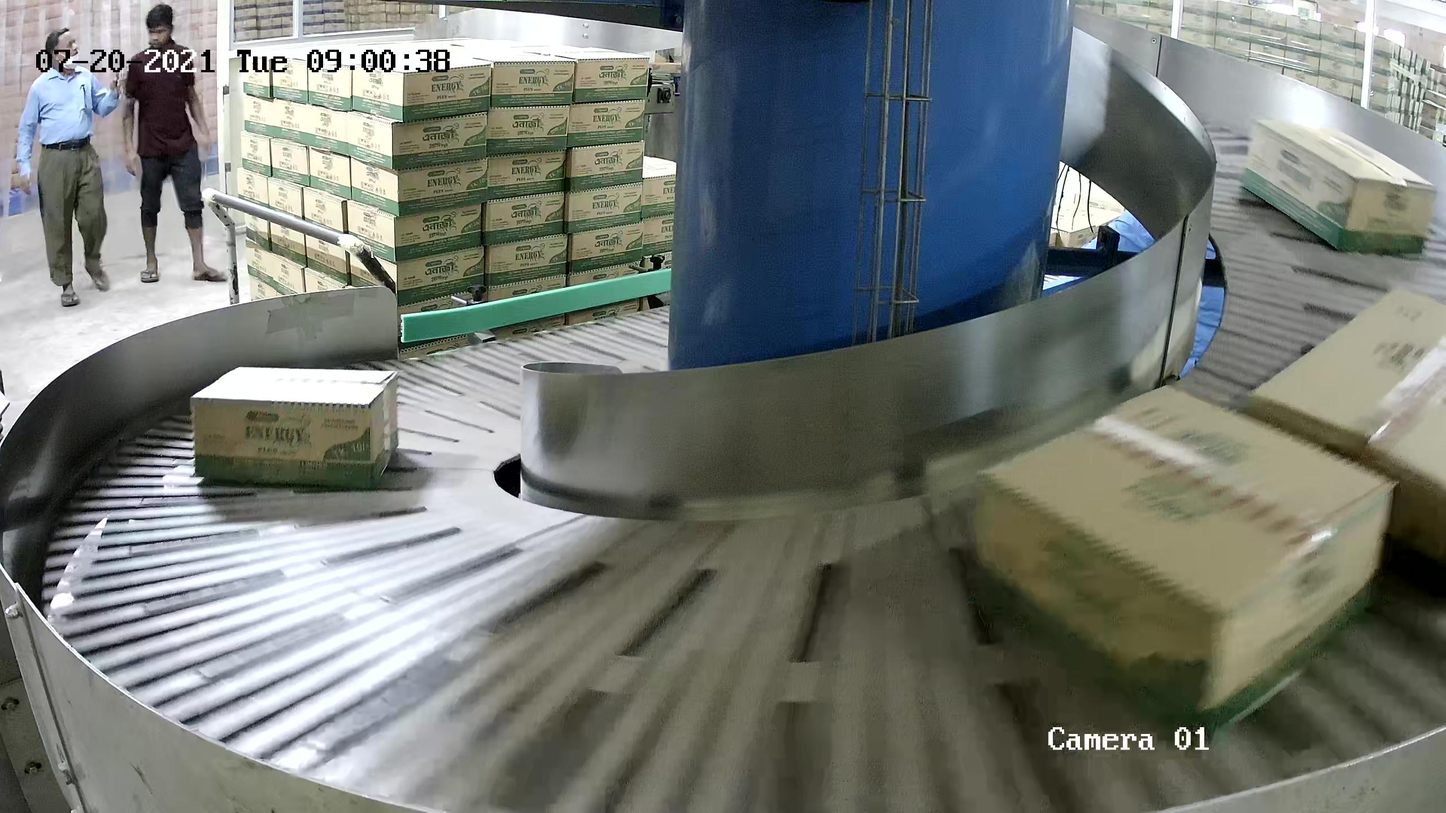Box: (968, 382, 1397, 737), (1236, 279, 1446, 608), (1239, 111, 1437, 255), (190, 367, 400, 494)
